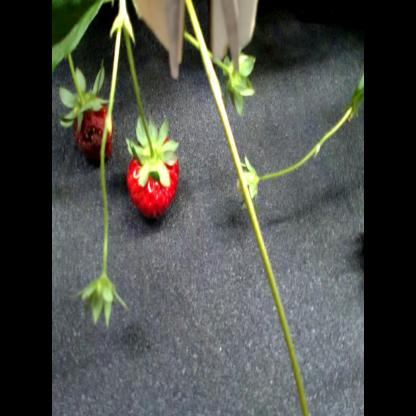ripe: (67, 70, 118, 167), (127, 121, 176, 211)
